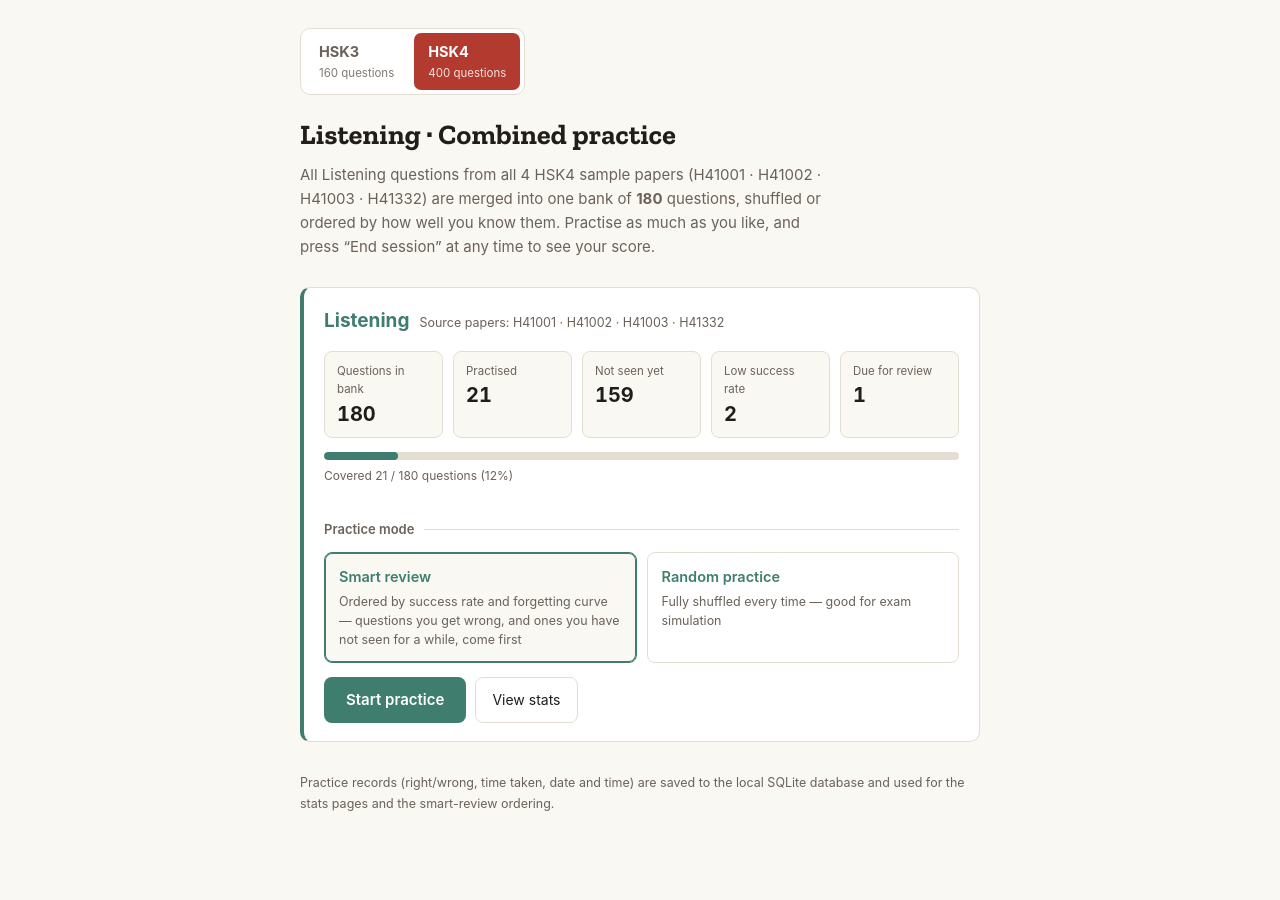
Test: DeckRunComponent › starts the chosen mode and renders the first question
The image size is (1280, 900).
Click the button with class "modebtn" that starts with "Random practice": point(803, 607) [646,552,959,663]
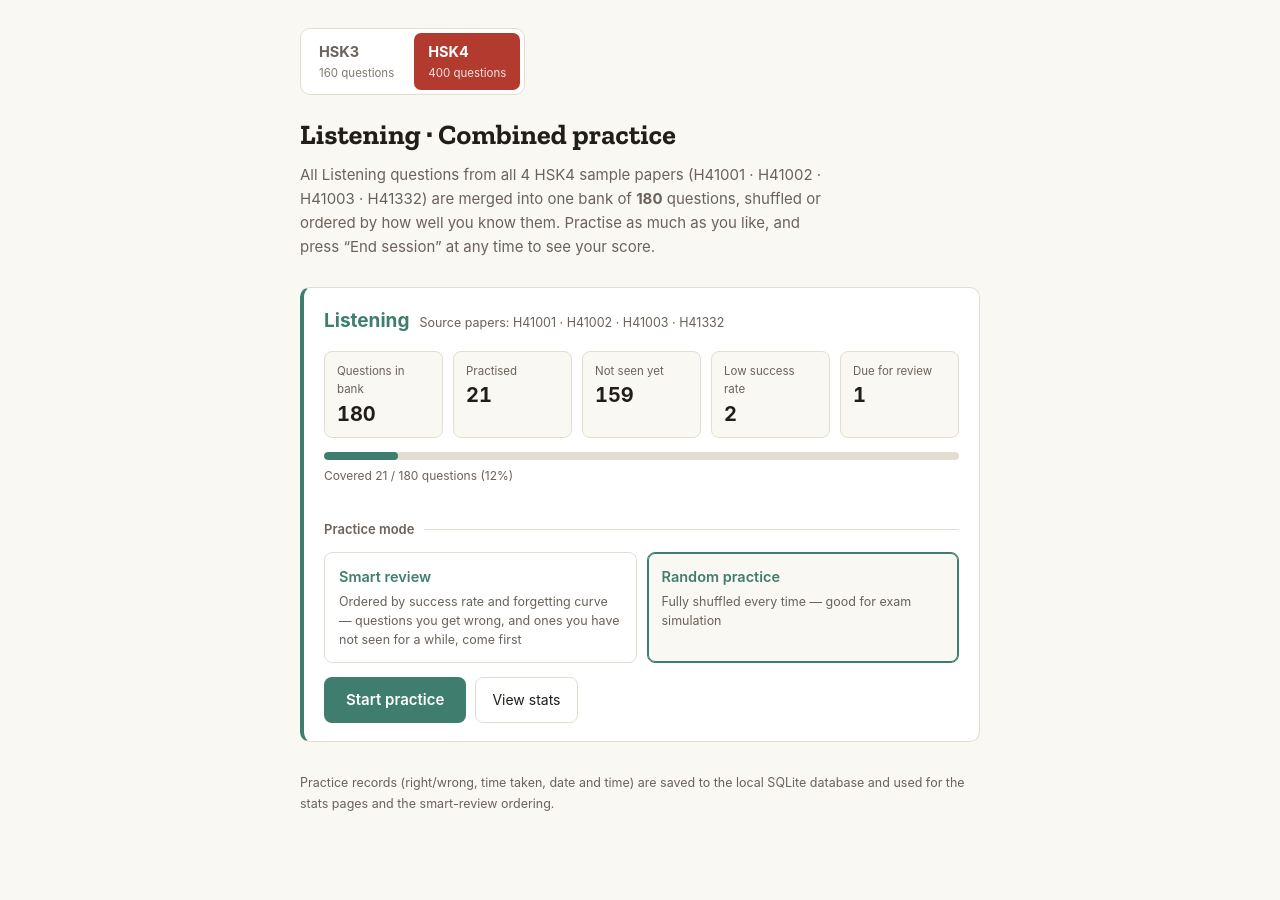
Click the button "Start practice": point(395, 700) [324,677,466,723]
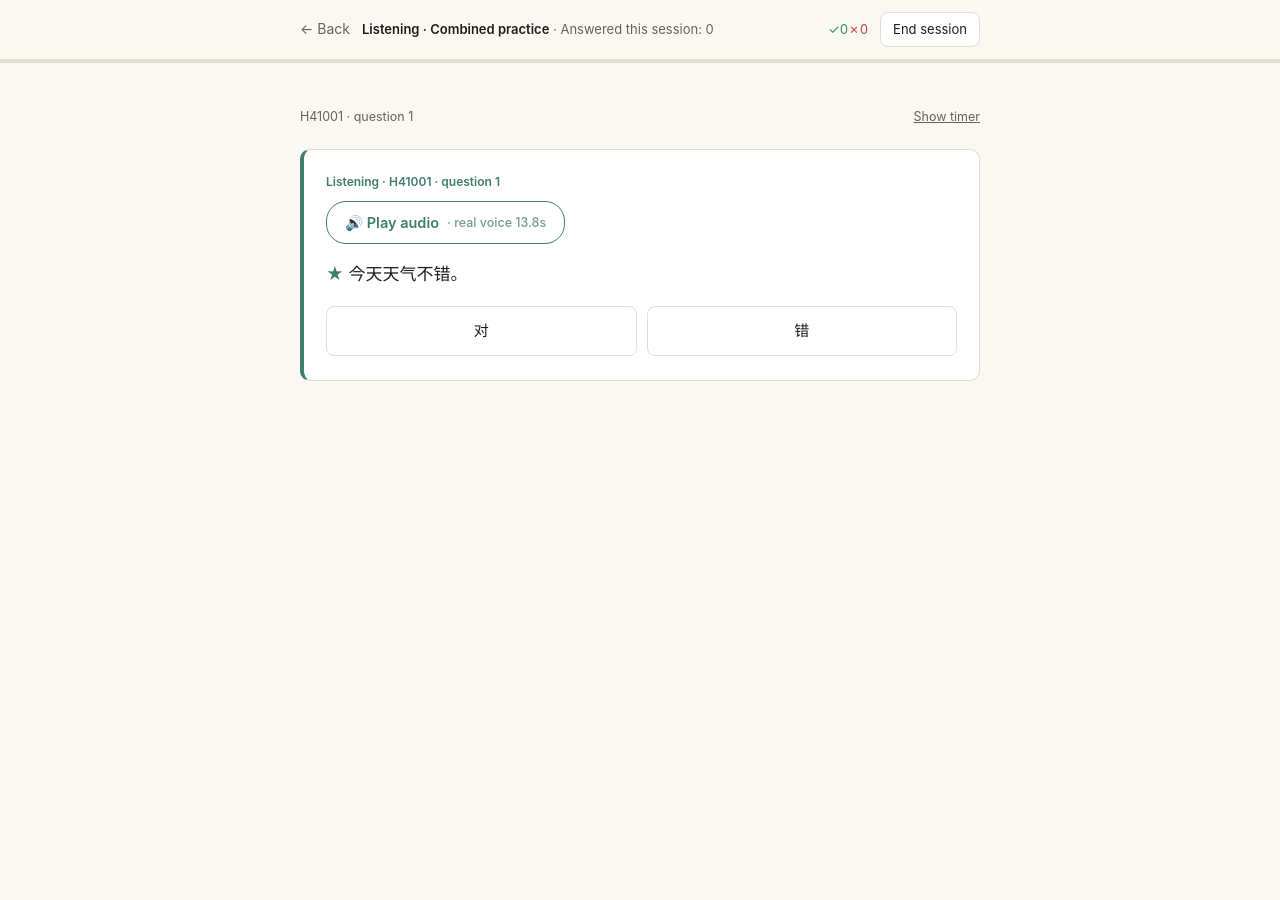
Result: the element showing "Listening · Combined practice · Answered this session: 0" is shown at [362,21,714,37]
Result: the text with class "tag" shows "question 1" at [326,174,500,189]
Result: the element showing "🔊 Play audio · real voice 13.8s ★ 今天天气不错。 对 错" is shown at [326,212,957,356]
